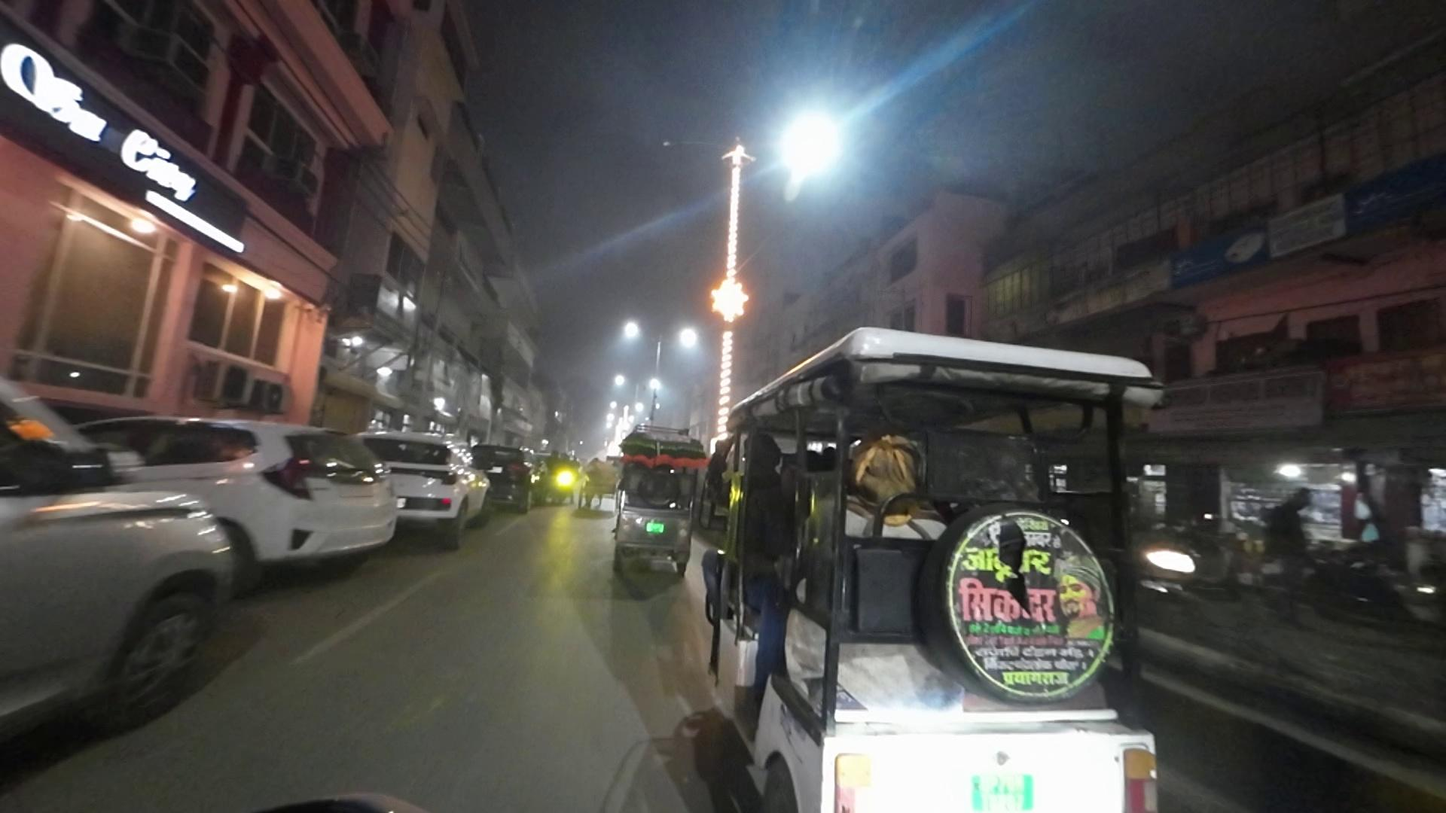streetlight: (662, 138, 726, 149)
